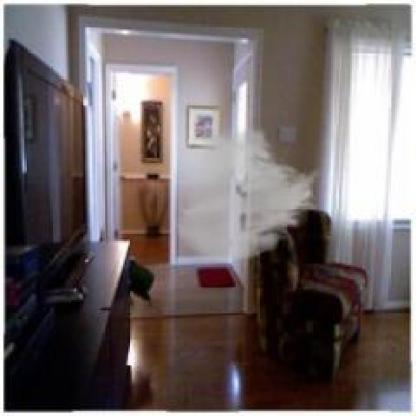Smoke: (172, 124, 324, 266)
